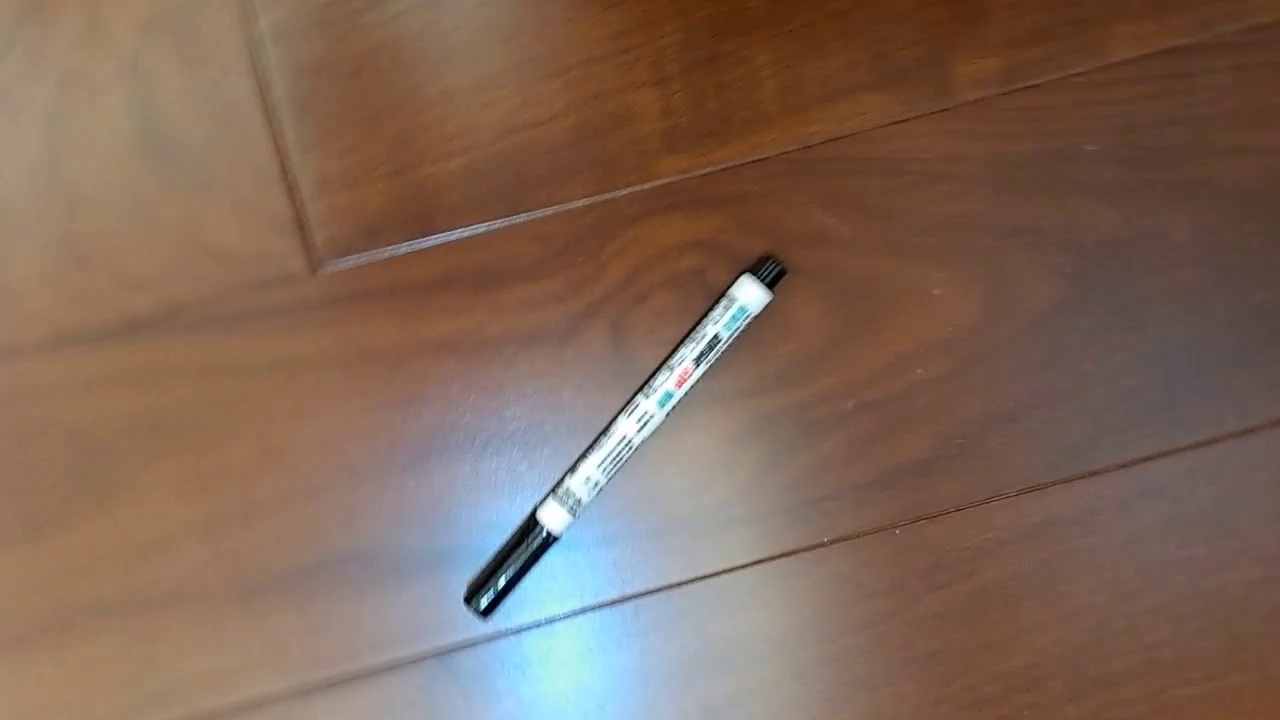pen: (462, 250, 789, 623)
